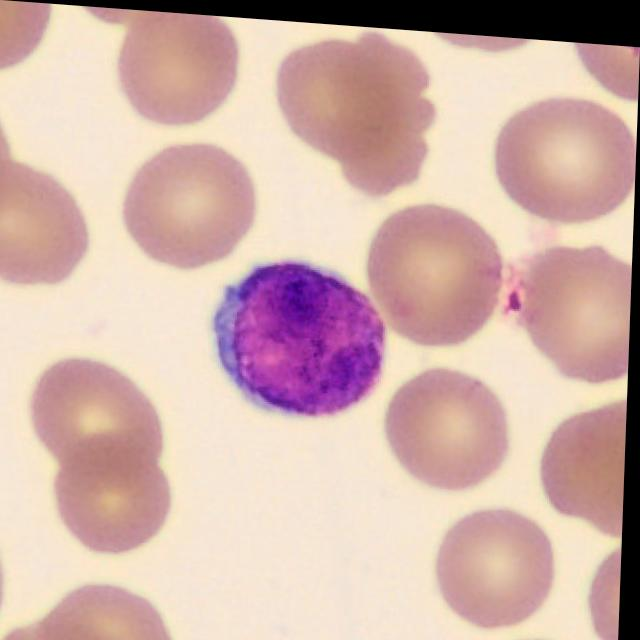Linfocito: (215, 257, 390, 412)
